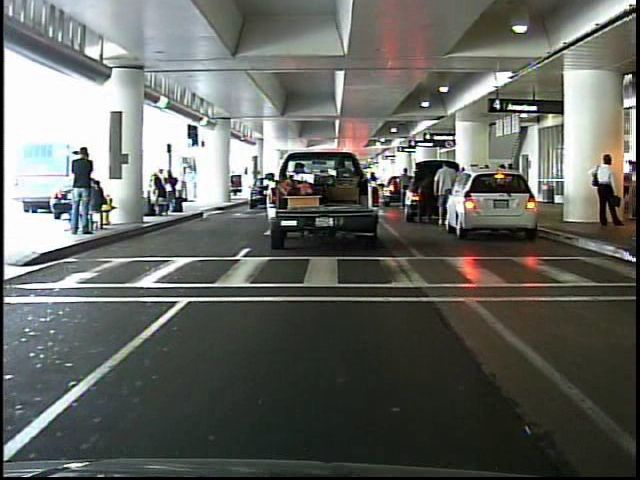person: (589, 148, 627, 233), (70, 140, 102, 237), (430, 159, 458, 231), (183, 163, 199, 206)
